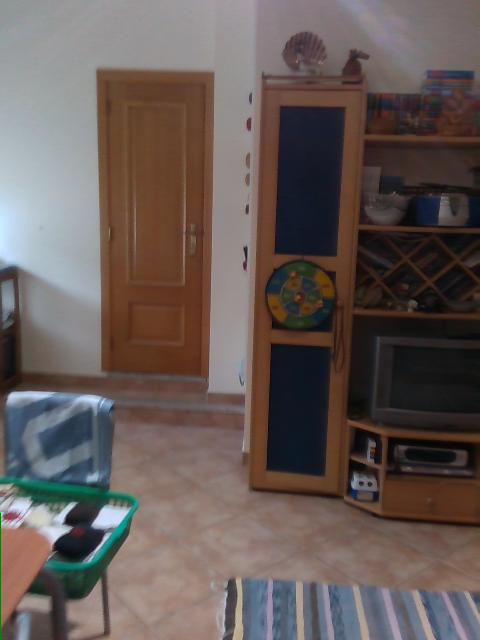door: (92, 65, 222, 387)
